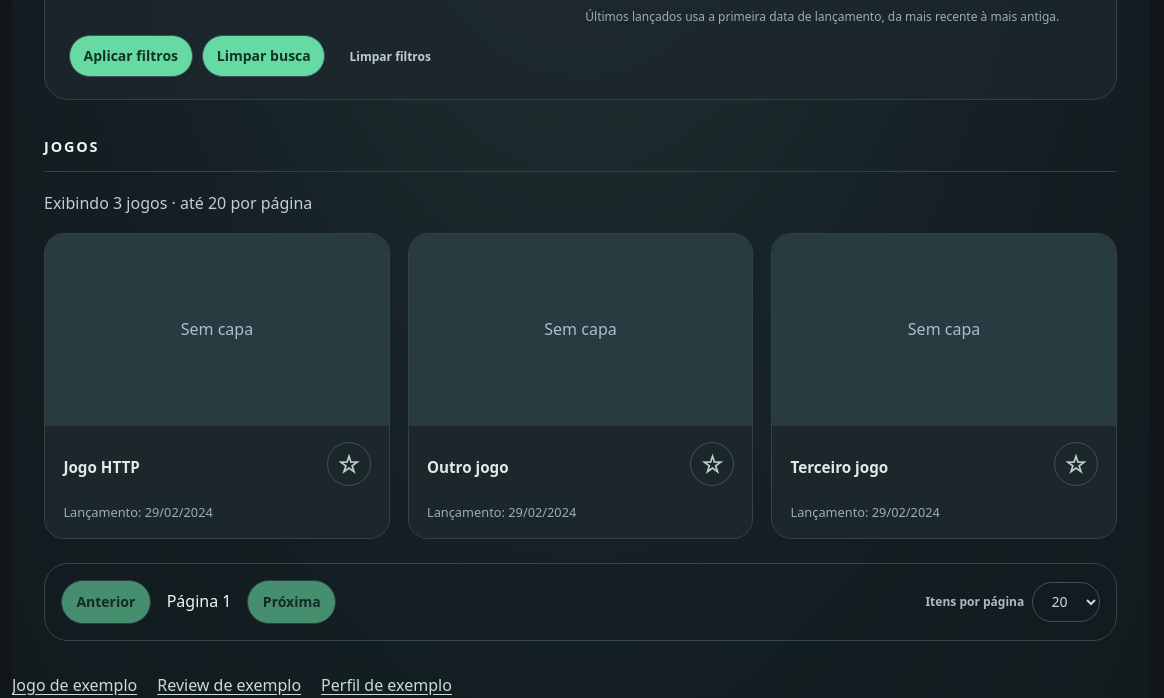
Test: visitante abre login pelo ícone sem leitura/escrita privada
(page scrolled)
Click the button named "Favoritar jogo Jogo HTTP": x=348, y=464 [326, 442, 370, 486]
(page scrolled)
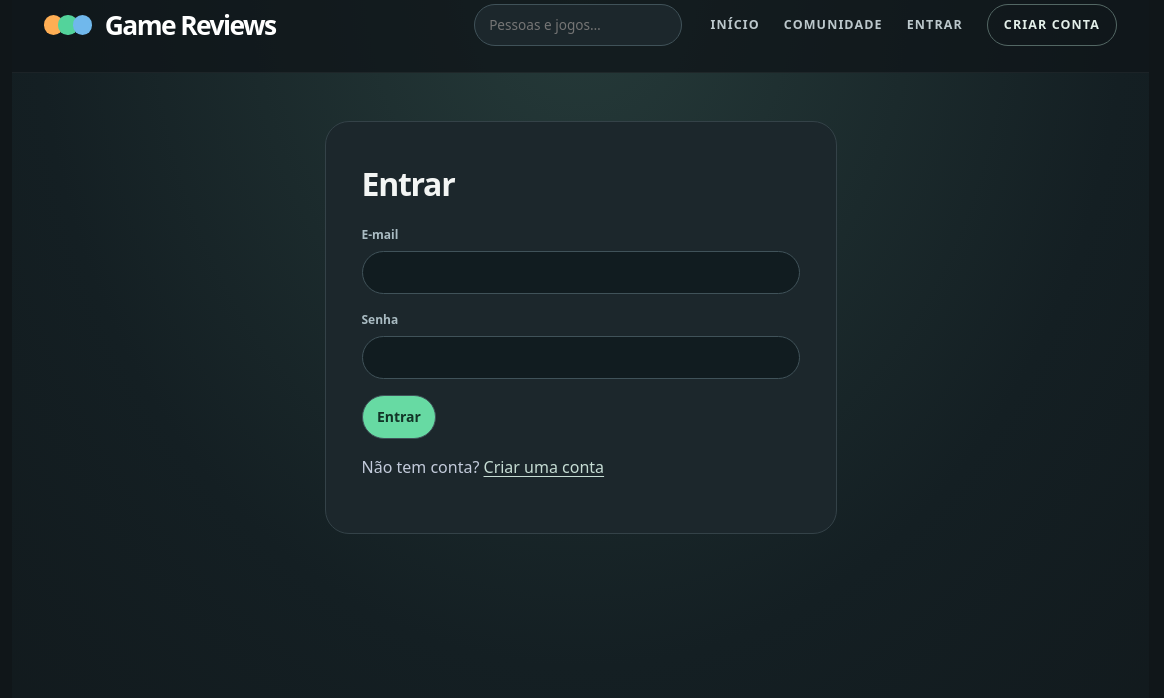
Now the form named "Login" is shown, box [362, 225, 800, 439]
